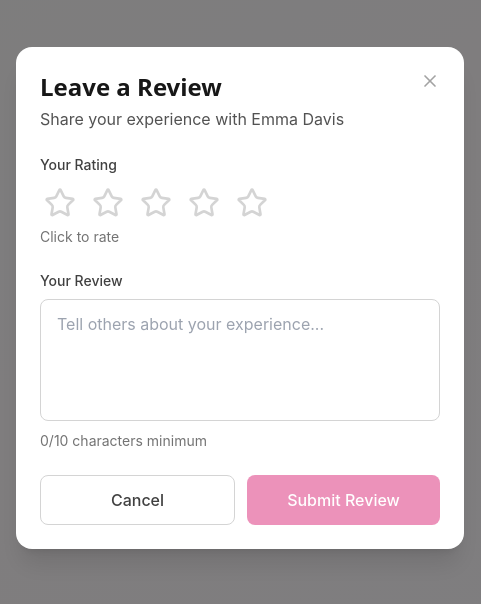
it: ReviewModal › should show error message when API fails
This screenshot has width=481, height=604.
Click the 6th button at point(252, 203), box 232,183 -> 272,223
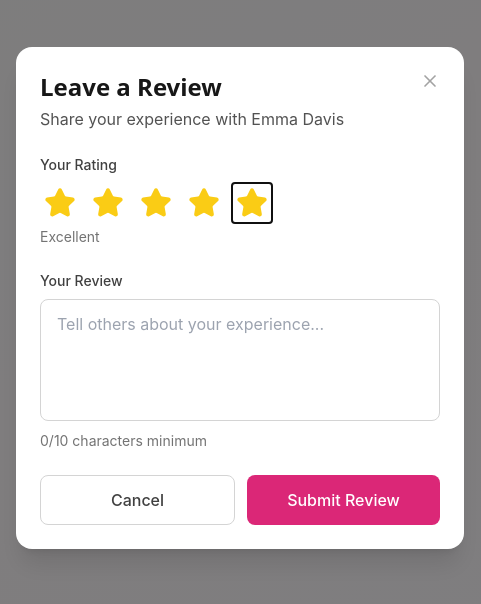
# Enter comment
Type "This was an excellent experience!" into the text box with placeholder "Tell others about your experience..." at point(240, 360), box 40,299 -> 440,421
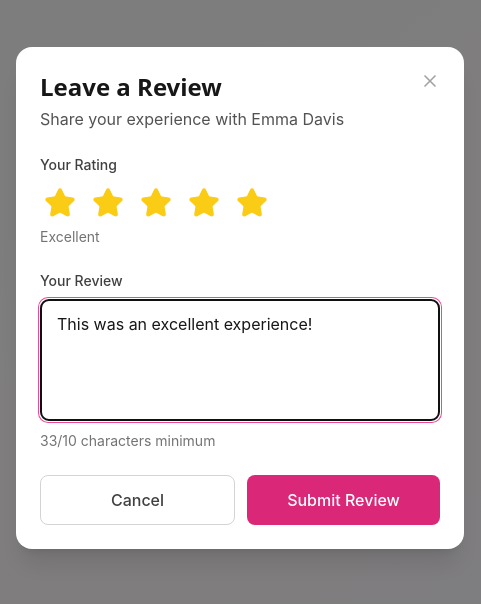
Click the button "Submit Review" at point(344, 500), box 247,475 -> 440,525
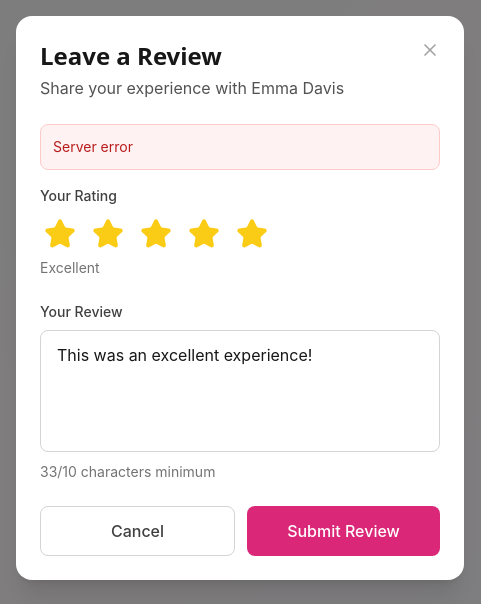
expect the text "Server error" is shown: met, box 40,124 -> 440,170
